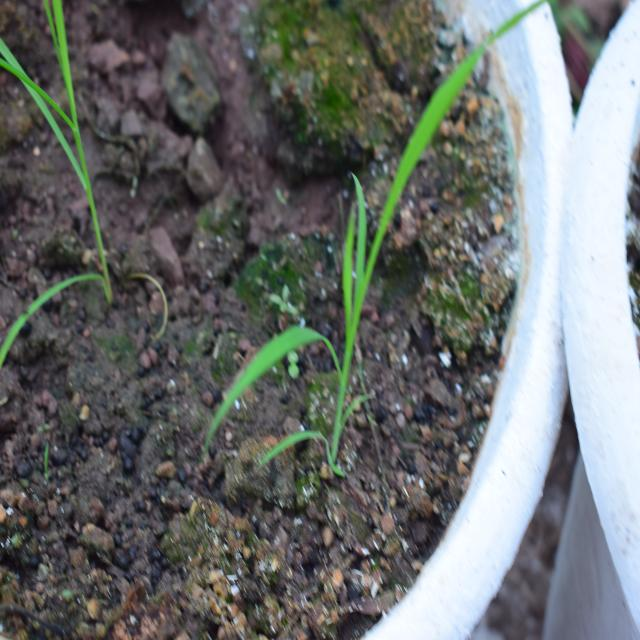barnyard_grass: (164, 49, 514, 466)
